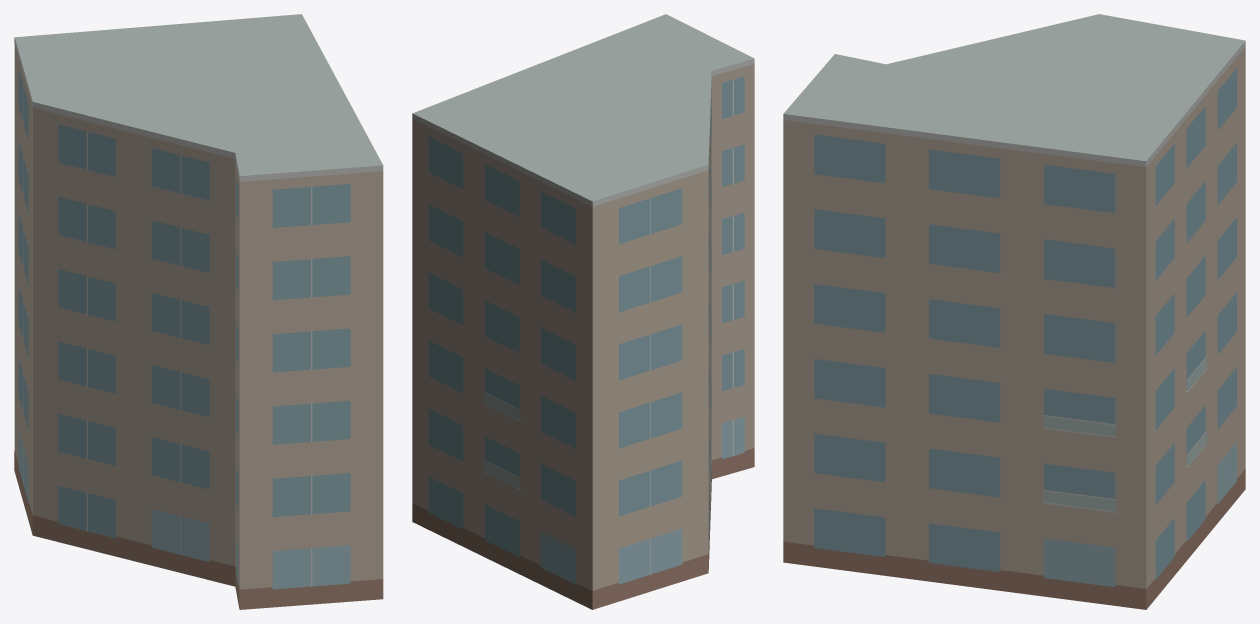
Rendered from survey-upis-32878266.glb.
3 renders of one model, left to right at view 1: azimuth 30°, elevation 25°; view 2: azimuth 150°, elevation 25°; view 3: azimuth 270°, elevation 25°, orthographic. The views are drawn at different scales.
Visible parts, largest first — view 1: survey-upis-32878266.tmp; view 2: survey-upis-32878266.tmp; view 3: survey-upis-32878266.tmp.
Part boxes in pixels (box(x1,y1,x2,y2)): survey-upis-32878266.tmp: box(14, 14, 383, 609); survey-upis-32878266.tmp: box(412, 14, 754, 609); survey-upis-32878266.tmp: box(783, 14, 1245, 609).
Bounding box in the file's own units: 12.89 × 18.3 × 17.1.
